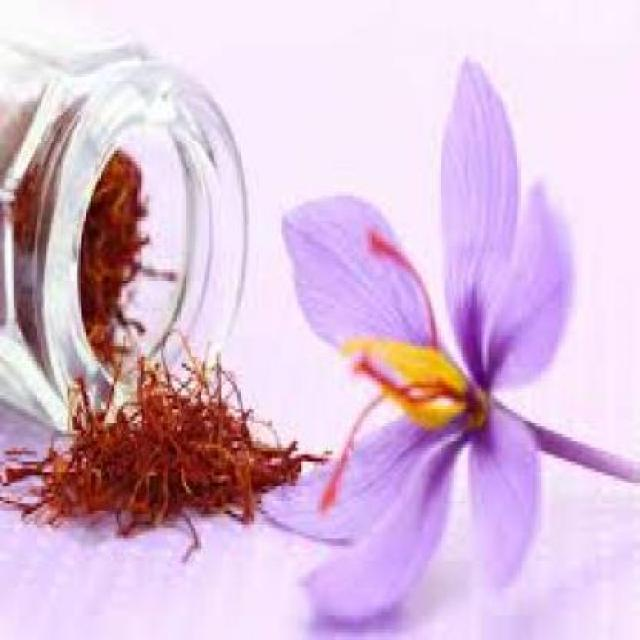Flower: (276, 55, 581, 619)
stigma: (310, 379, 452, 520), (357, 222, 444, 344), (351, 355, 472, 408)
